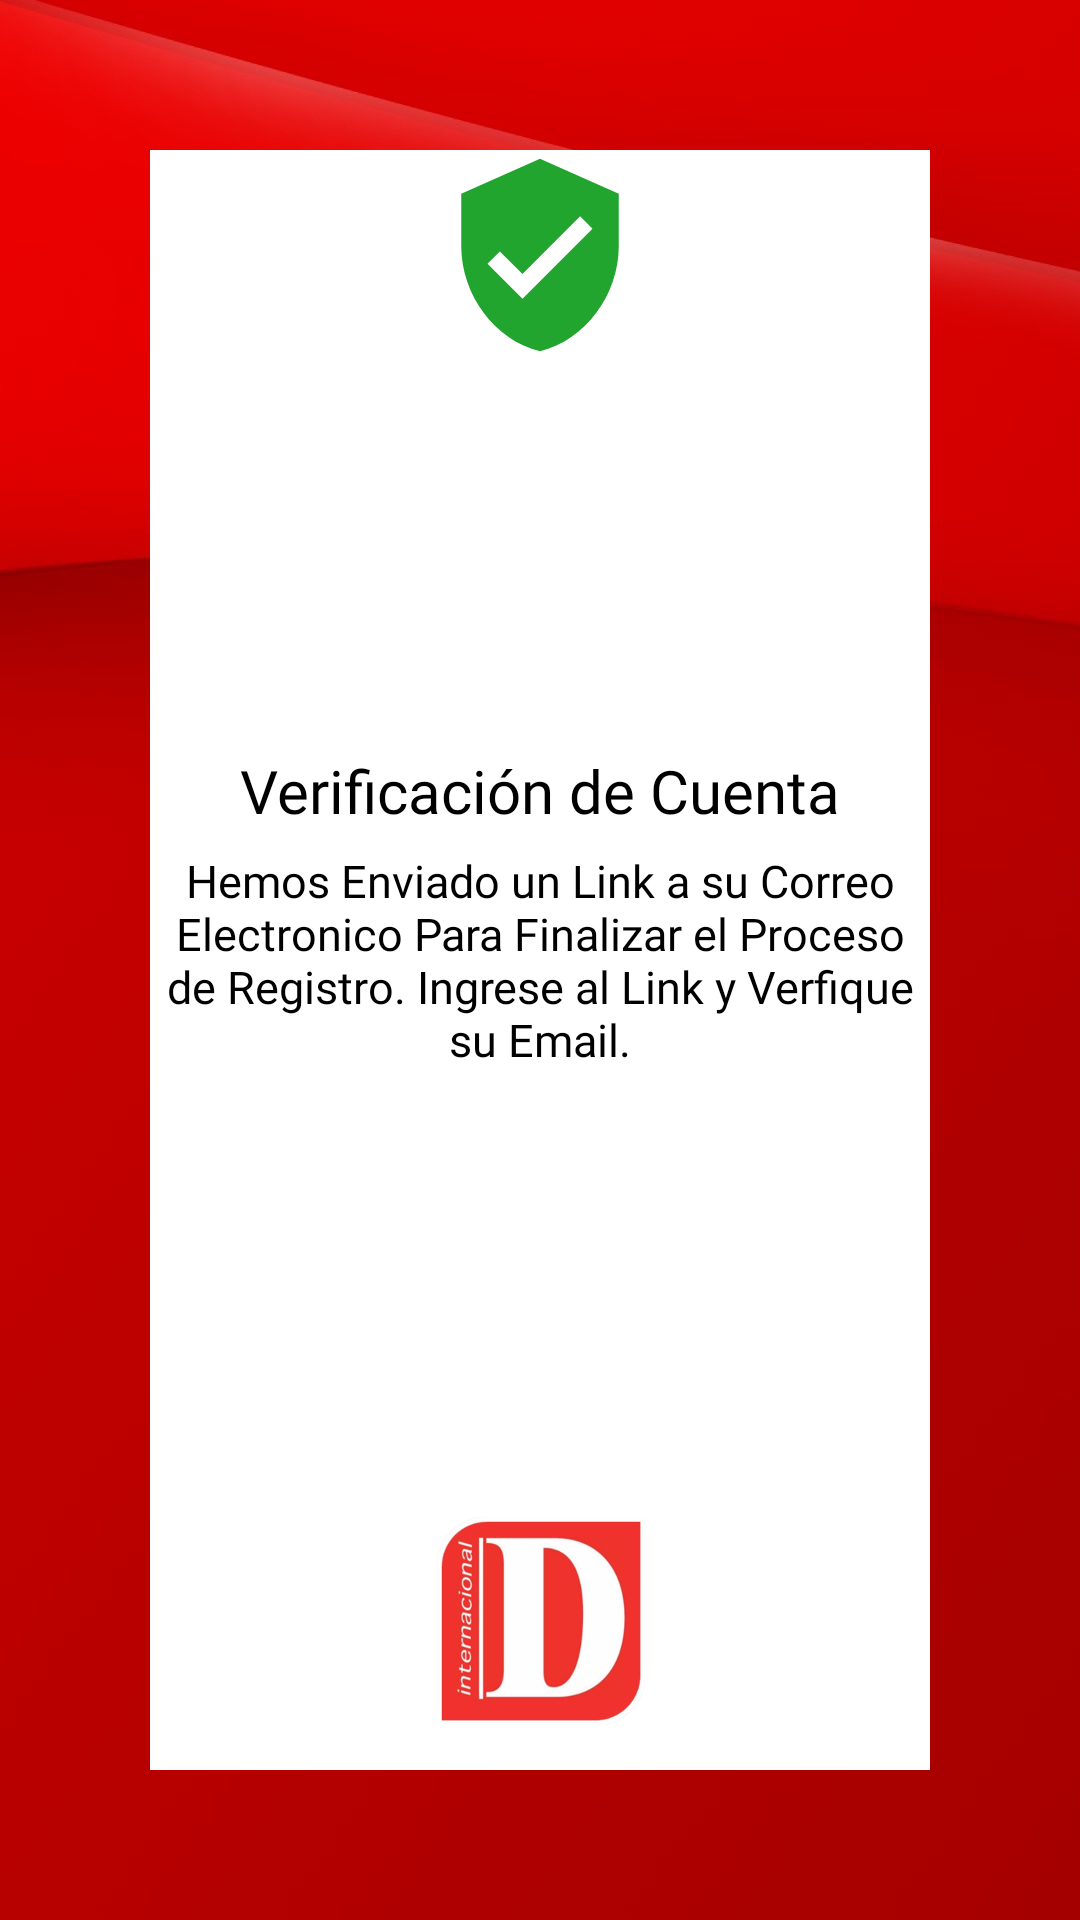

Point at icon controls on the screen. Image size 1080x1920, points as (x,y).
verified user: (540,255)
